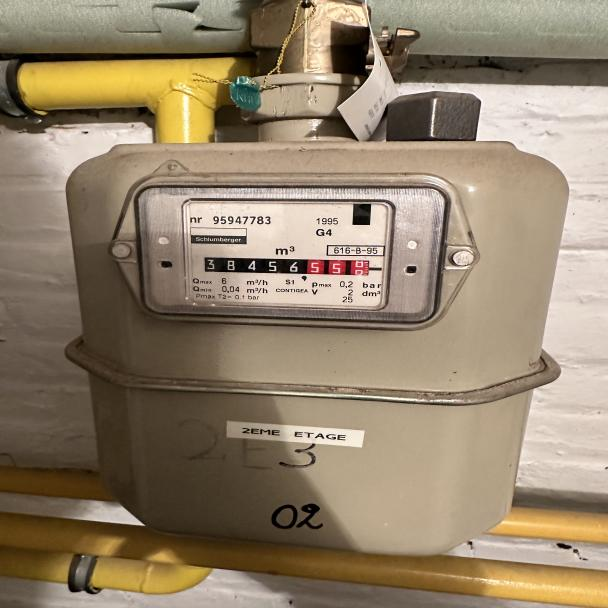3: (204, 258, 218, 274)
4: (244, 257, 259, 277)
5: (327, 257, 349, 276), (263, 258, 282, 277), (308, 258, 326, 276)
6: (284, 258, 305, 278)
8: (348, 257, 374, 277), (222, 257, 239, 276)
cm: (309, 255, 378, 279)
counter: (203, 256, 309, 278)
